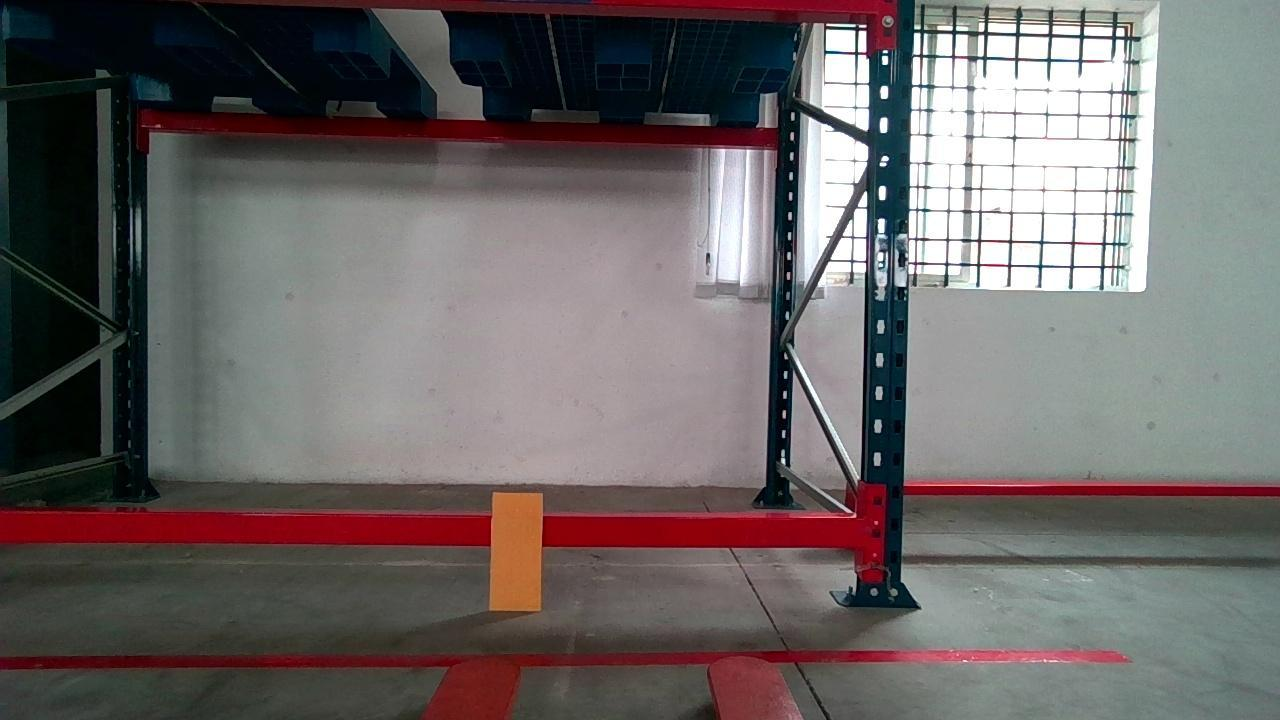h_rack: (0, 514, 864, 546)
orange_strip: (490, 493, 544, 611)
red_line: (1, 646, 1130, 670)
